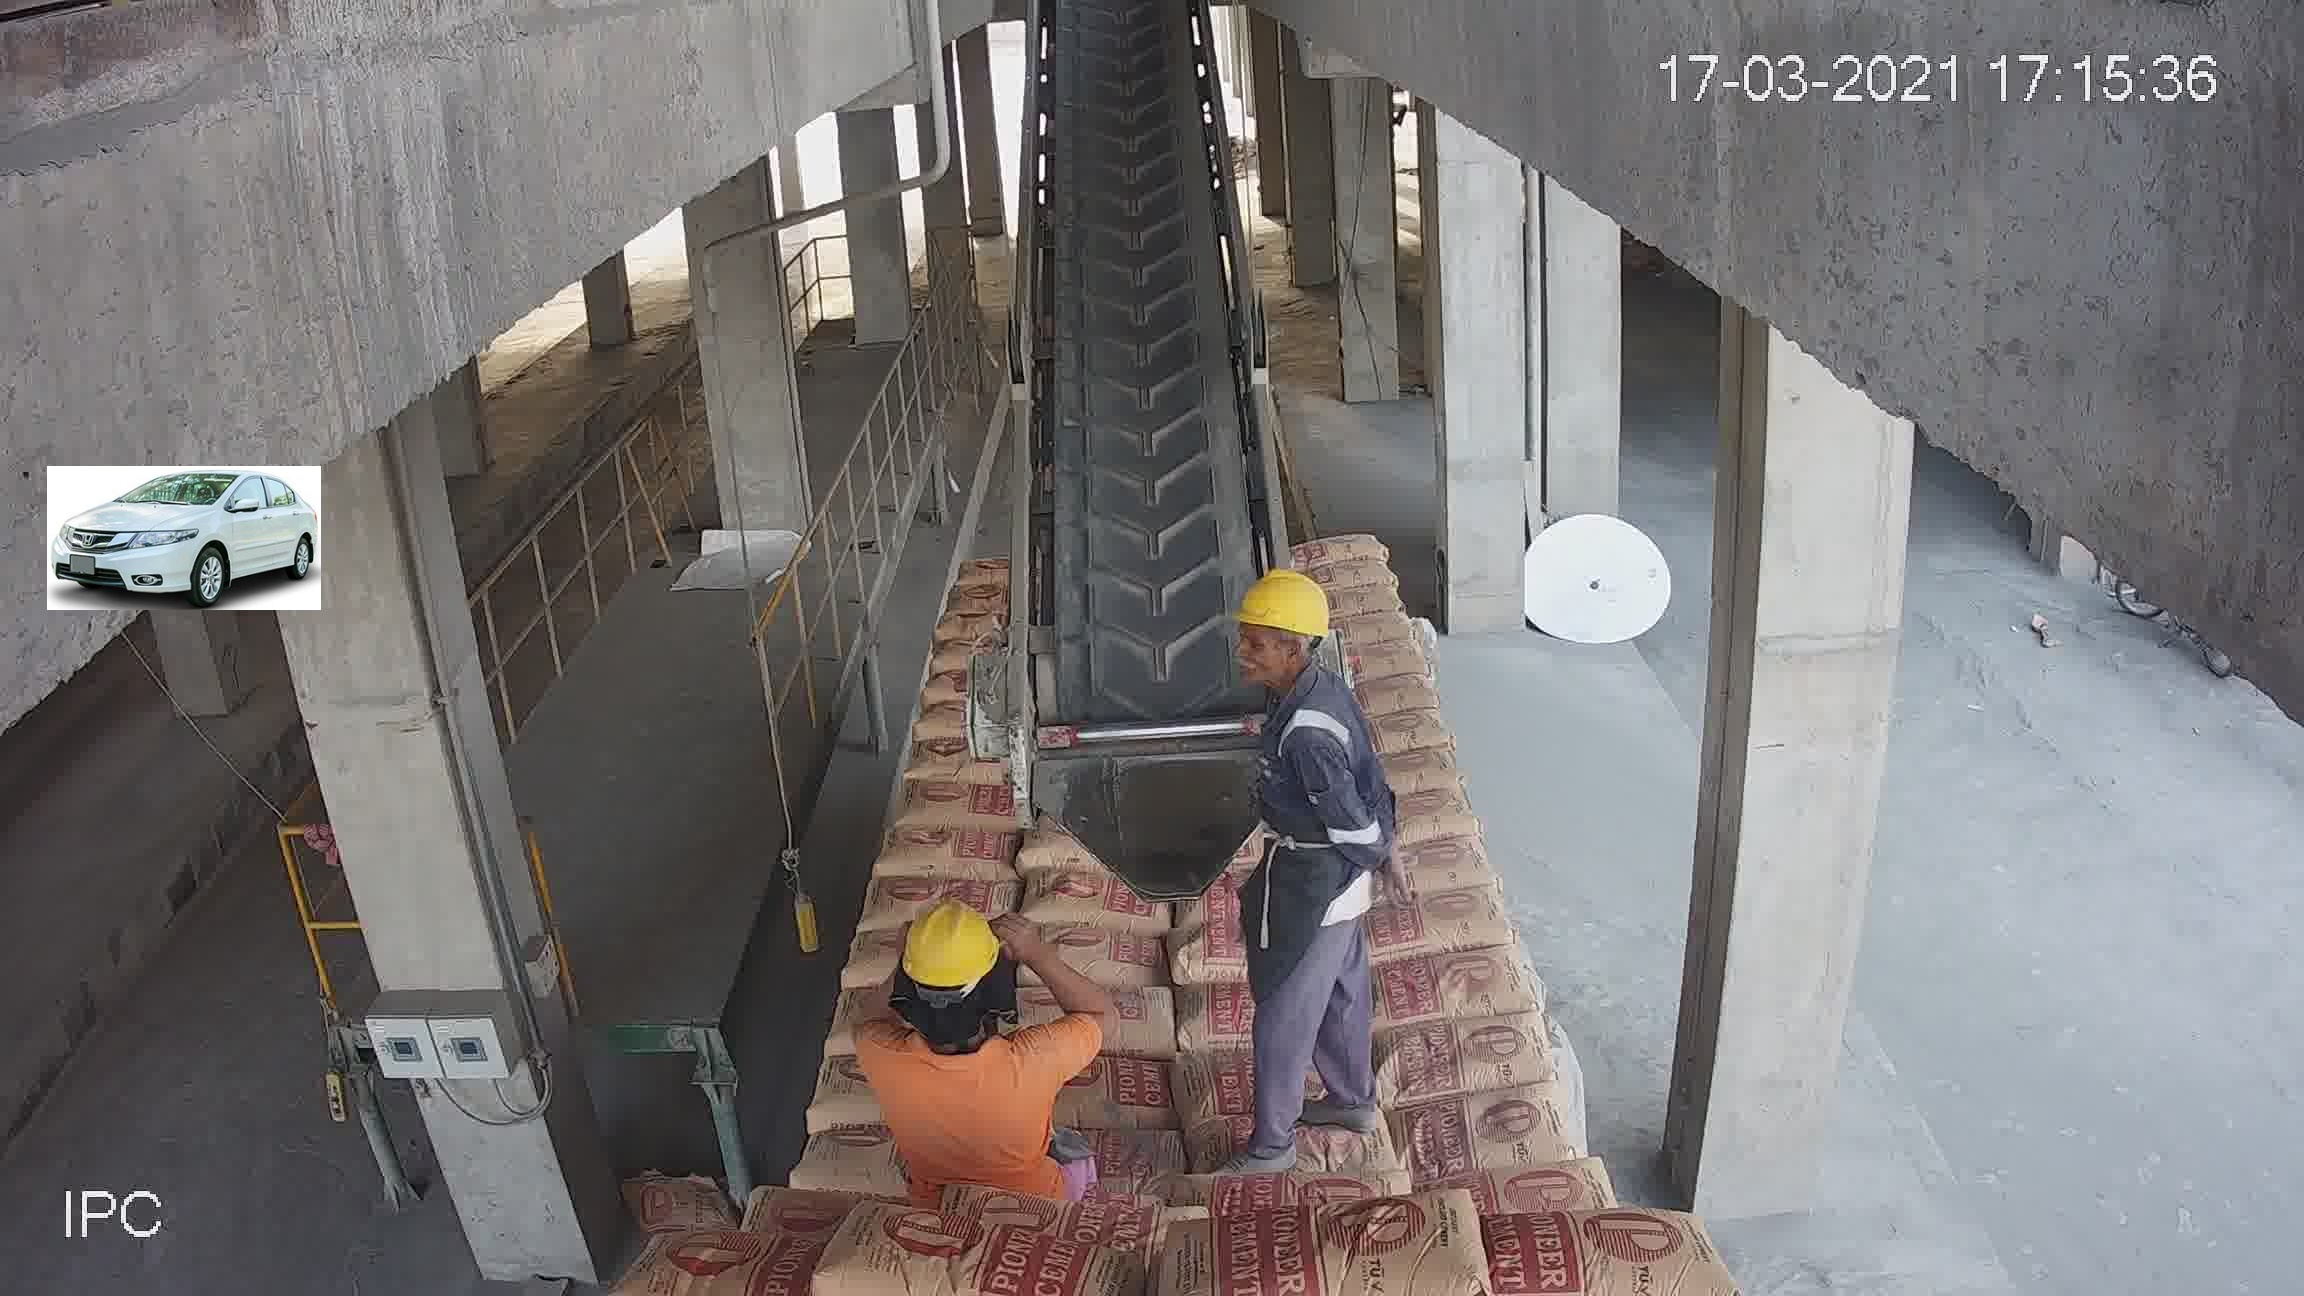bag_h: (1147, 1196, 1491, 1291), (1442, 1199, 1703, 1291), (802, 1218, 1117, 1294), (1410, 1078, 1605, 1177), (1353, 945, 1544, 1038), (1374, 1016, 1554, 1109), (639, 1226, 850, 1296), (1356, 886, 1514, 970), (1022, 905, 1173, 991), (1184, 1173, 1415, 1222), (1435, 1158, 1606, 1222), (1078, 994, 1226, 1060), (859, 862, 1029, 919), (1054, 1054, 1192, 1124), (869, 829, 1024, 888), (1299, 554, 1407, 597), (1291, 532, 1396, 573), (1317, 582, 1412, 622)
belt: (1013, 47, 1275, 783)
